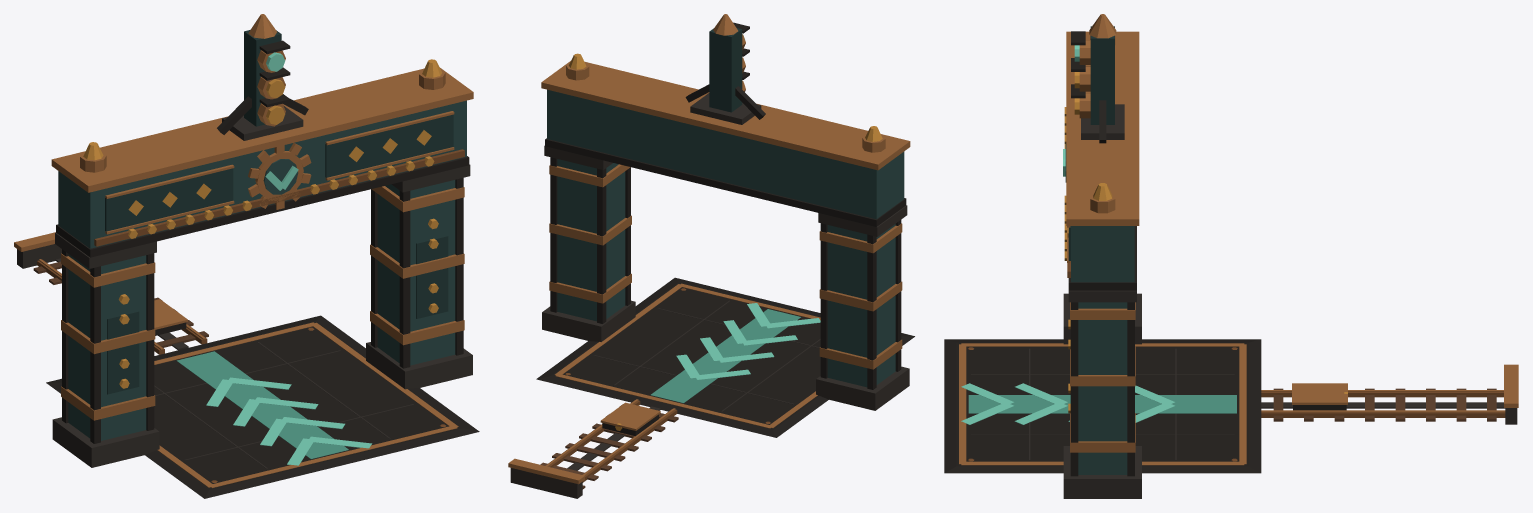
Rendered from camp_launch_gate.glb.
3 views of the same model, side by side, from view 1: azimuth 30°, elevation 25°; view 2: azimuth 150°, elevation 25°; view 3: azimuth 270°, elevation 25° (orthographic). The views are drawn at different scales.
Visible parts, largest first — view 1: Body; view 2: Body; view 3: Body.
Part boxes in pixels (x1,y1,x2,y2): Body: (14,14,479,498); Body: (508,14,914,498); Body: (944,14,1518,498).
Size of the model in its own units: 18.2 by 17.7 by 23.55.
